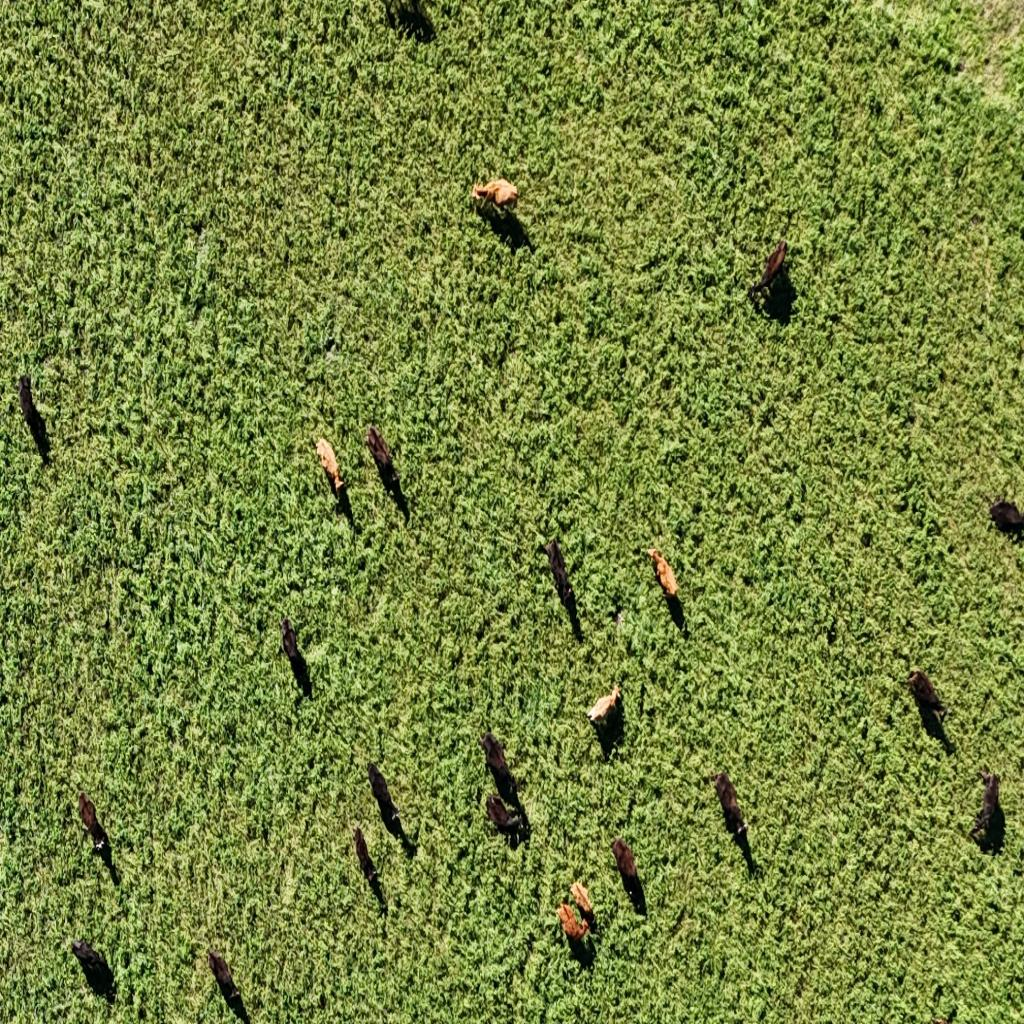cow: (746, 236, 791, 310), (368, 762, 404, 836), (711, 770, 749, 839), (968, 772, 1001, 848), (18, 374, 47, 457), (71, 938, 112, 994), (907, 668, 949, 722), (544, 539, 575, 609), (485, 794, 529, 843), (611, 838, 643, 904), (78, 791, 109, 854), (551, 900, 589, 950), (316, 436, 346, 498), (471, 176, 517, 216), (646, 546, 680, 600), (353, 826, 381, 891), (208, 950, 240, 1002), (587, 683, 622, 730), (478, 730, 510, 780), (366, 424, 396, 476), (988, 498, 1024, 536), (570, 881, 596, 927), (280, 616, 296, 658), (612, 683, 622, 708), (932, 1014, 950, 1023)
